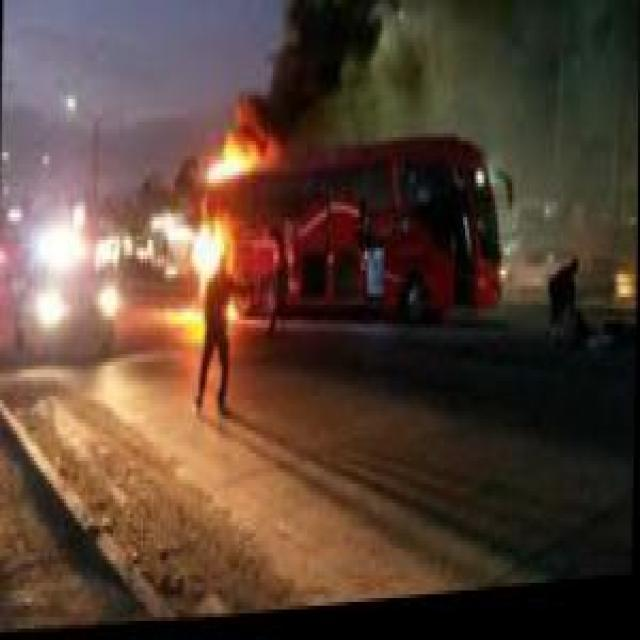Fire: (183, 84, 294, 336)
Smoke: (262, 0, 591, 149)
